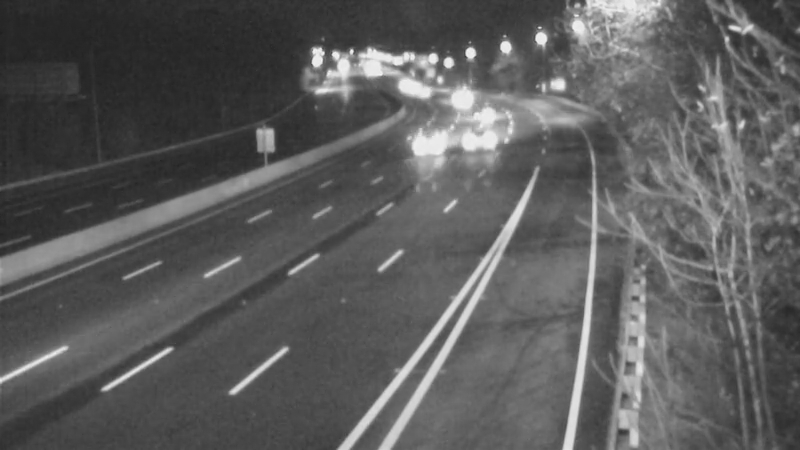vehicle: (374, 59, 424, 109), (399, 69, 449, 119), (426, 71, 476, 121), (457, 91, 507, 141), (451, 121, 501, 171), (409, 117, 459, 167)
